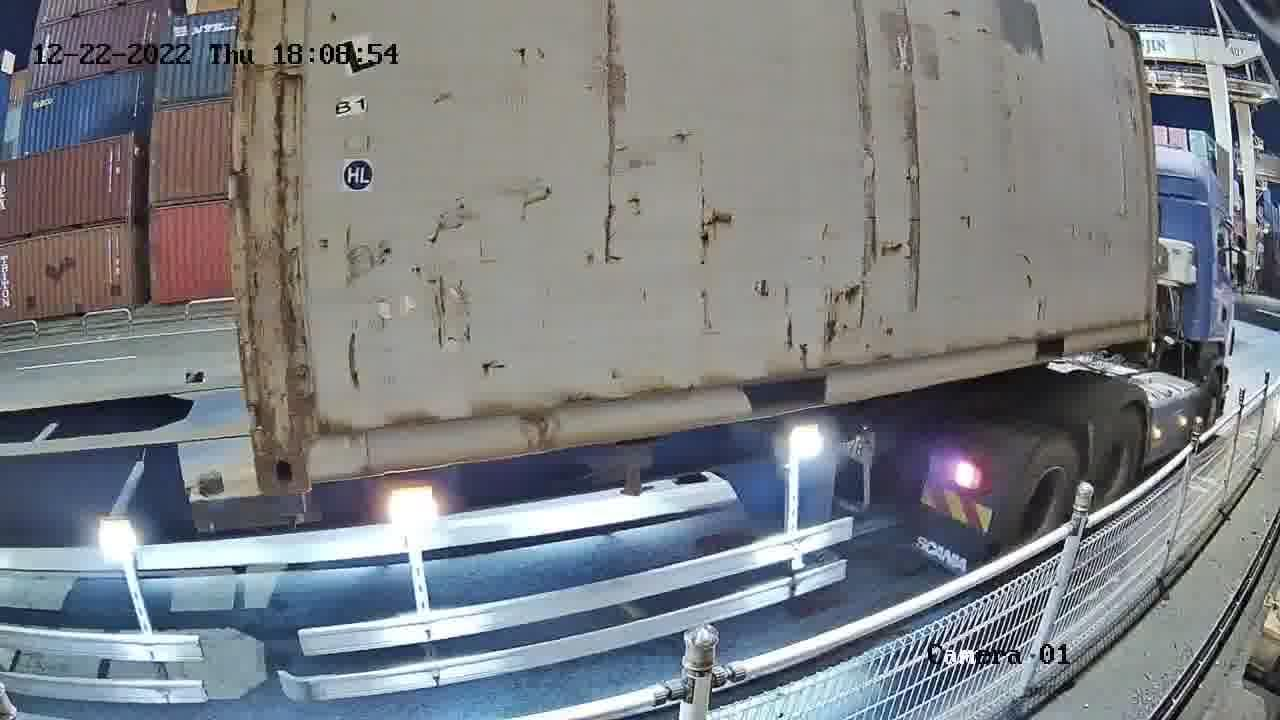Chassis: (185, 376, 227, 501)
Cone: (197, 469, 225, 534), (273, 492, 307, 534)
Hole_L: (247, 397, 352, 495)
Tire: (1001, 439, 1081, 569), (1088, 409, 1144, 529)
